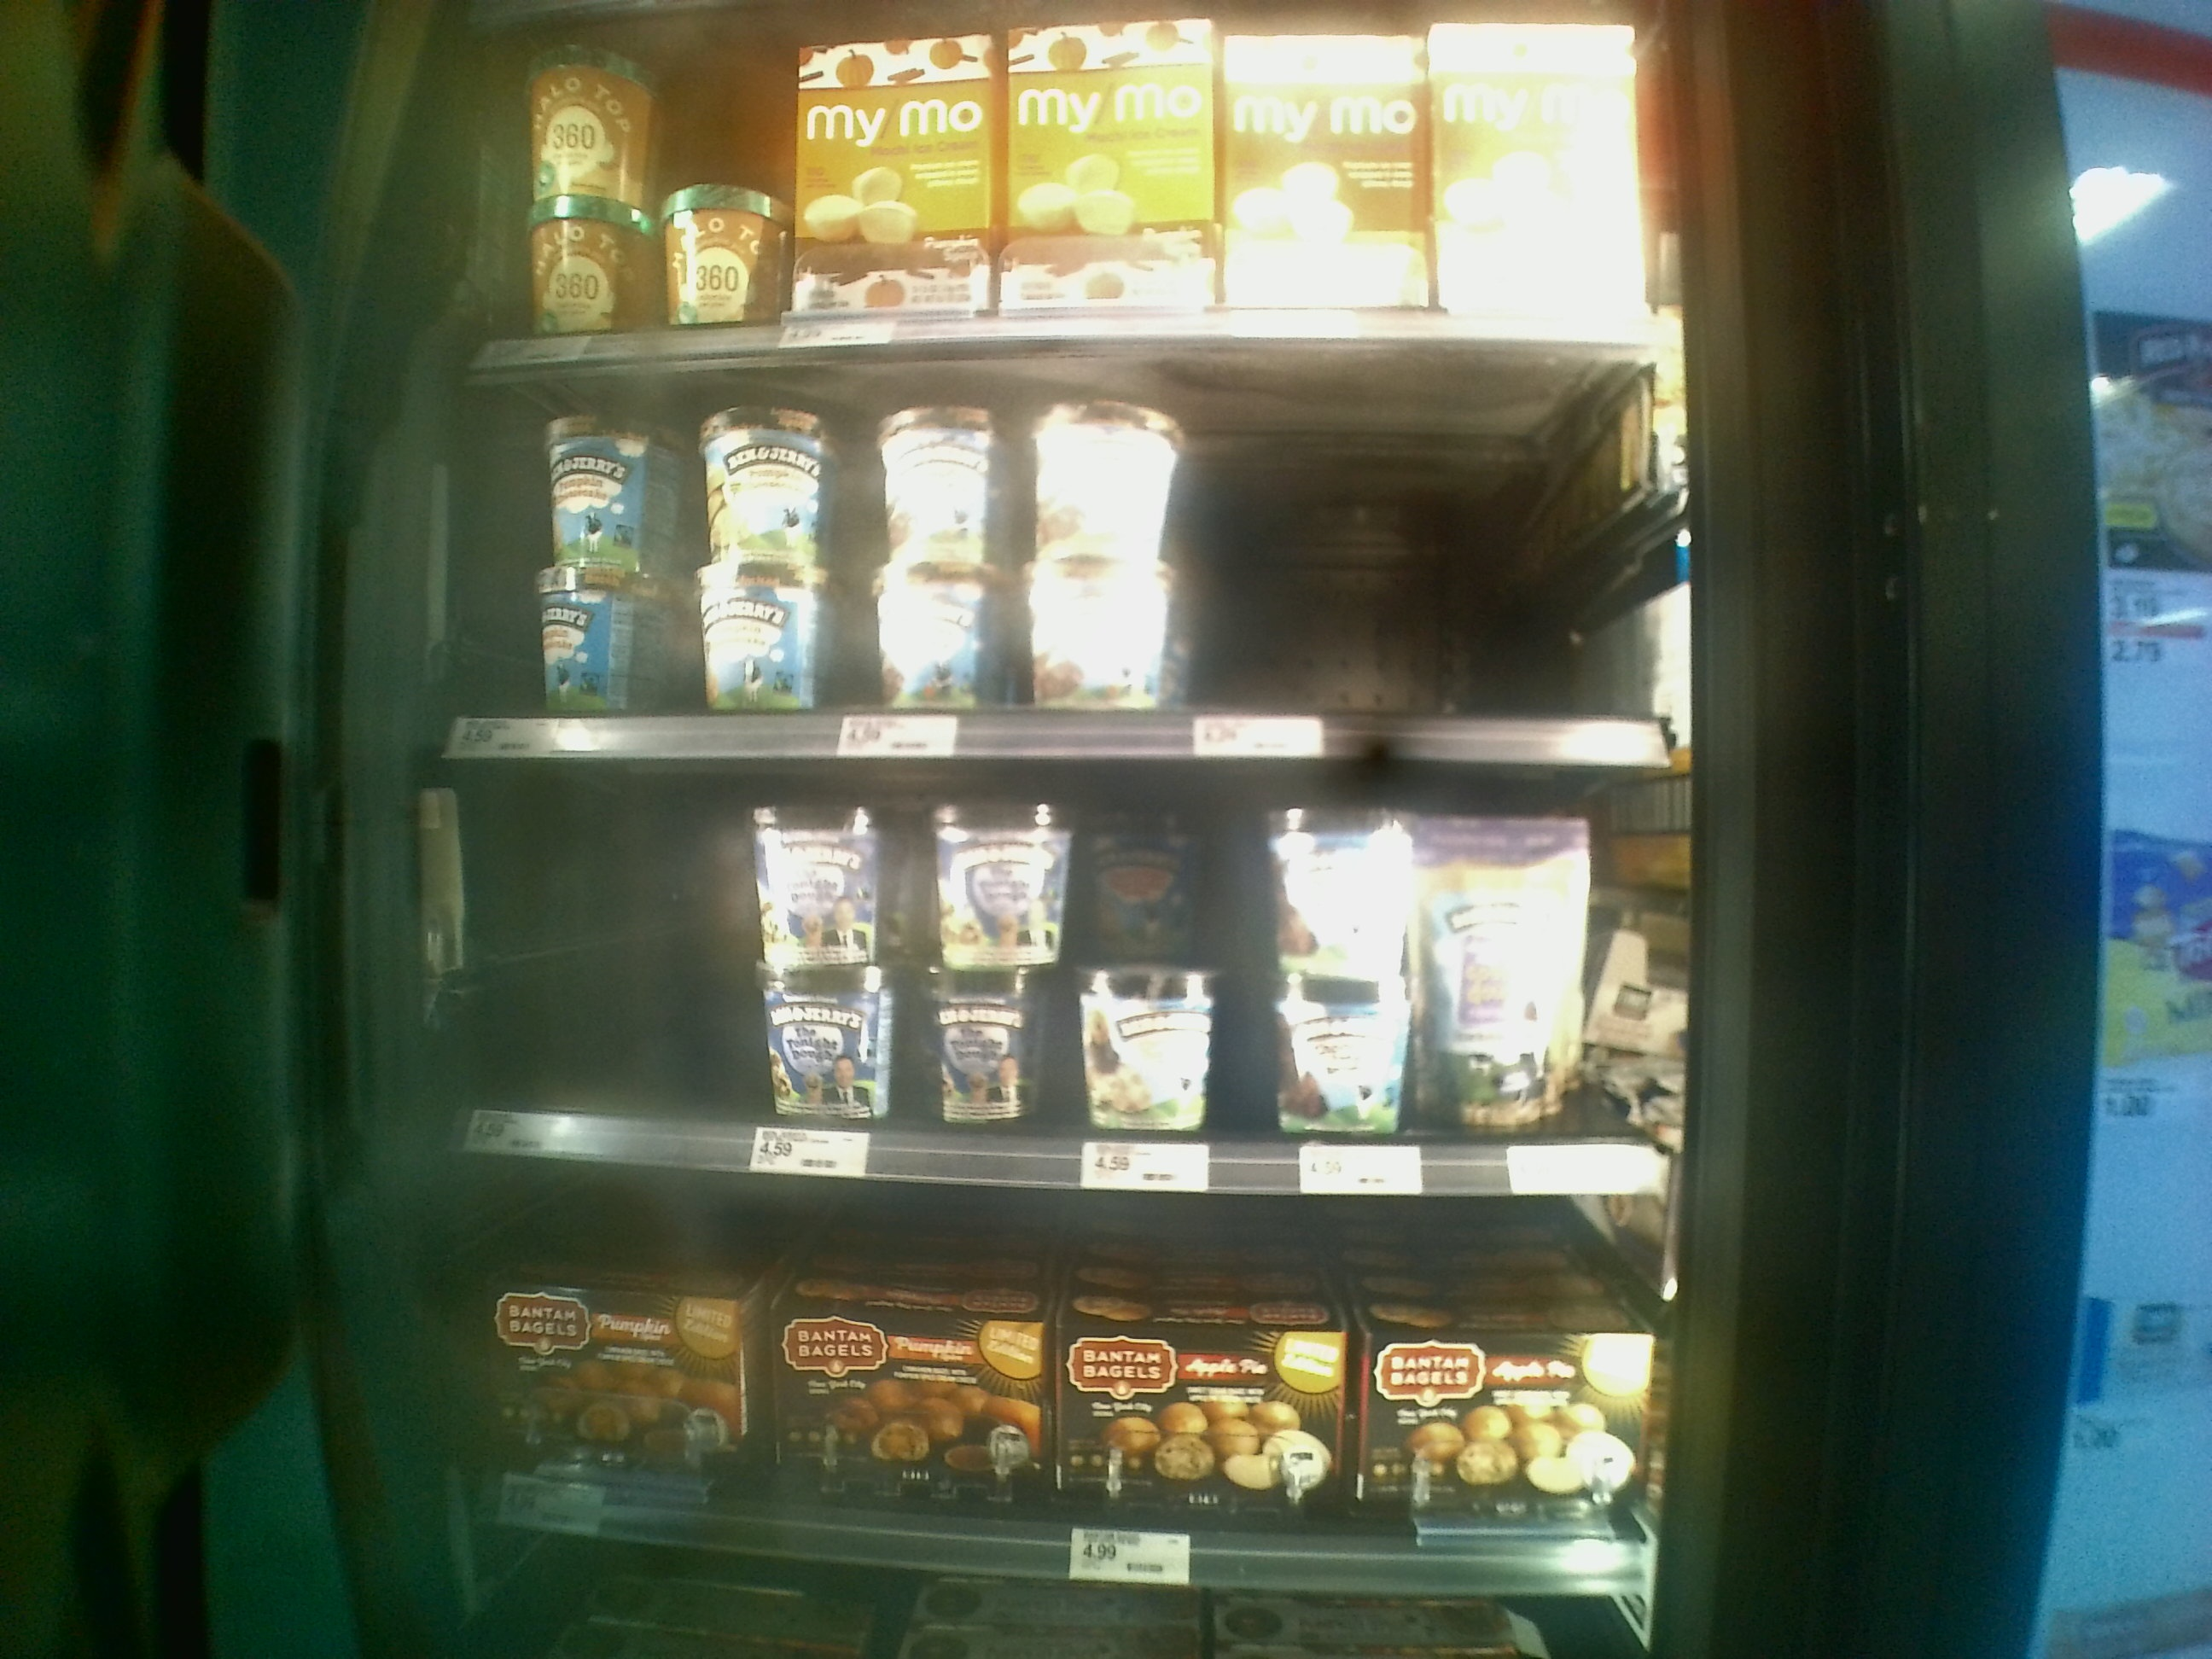shelf: (420, 749, 1689, 1195), (409, 1161, 1679, 1607), (451, 349, 1689, 774)
